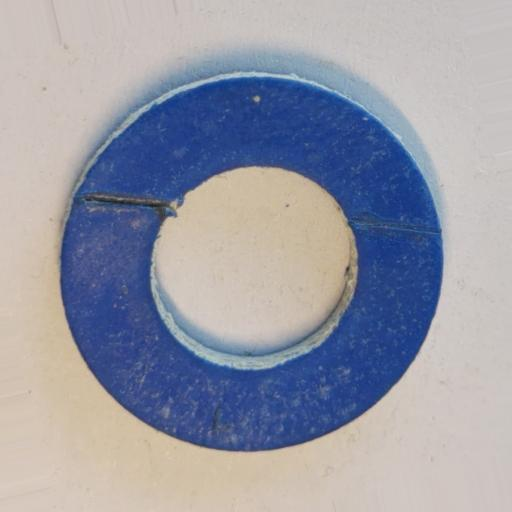defect: (71, 190, 185, 220), (349, 215, 442, 240)
